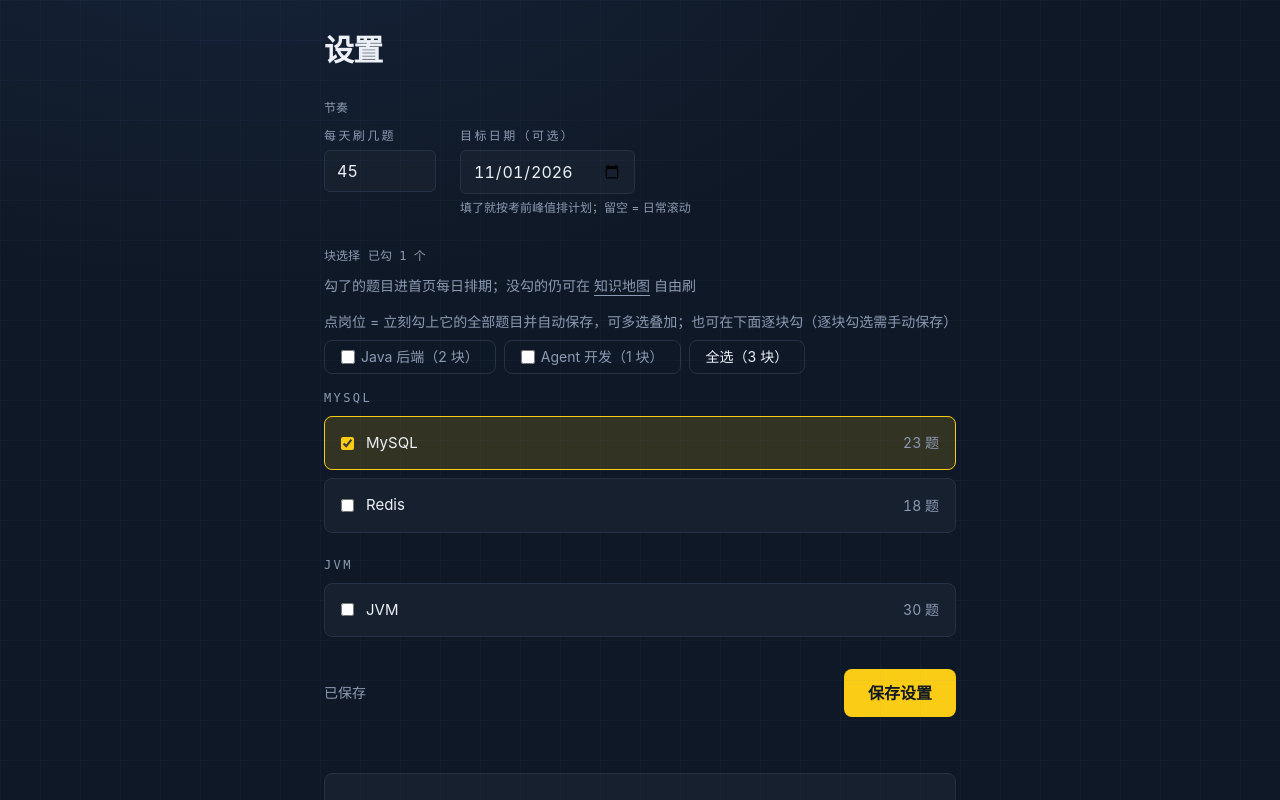
岗位 chip 点掉一个 = 剩余并集；全部点掉 = 没勾任何题目（各步自动保存）
Click the checkbox labelled "Java 后端（2 块）" at (348, 357), box x1=341 y1=350 x2=355 y2=364
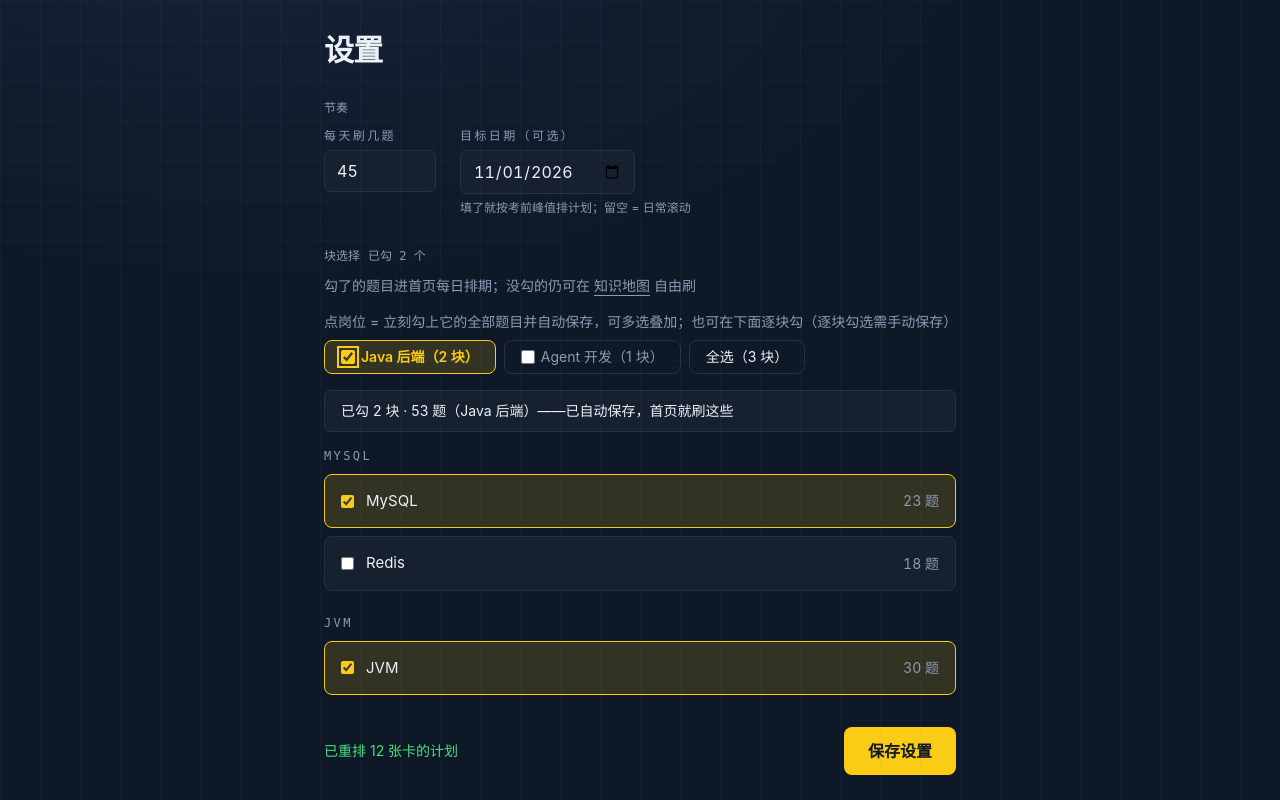
Click the checkbox labelled "Agent 开发（1 块）" at (528, 357), box x1=521 y1=350 x2=535 y2=364
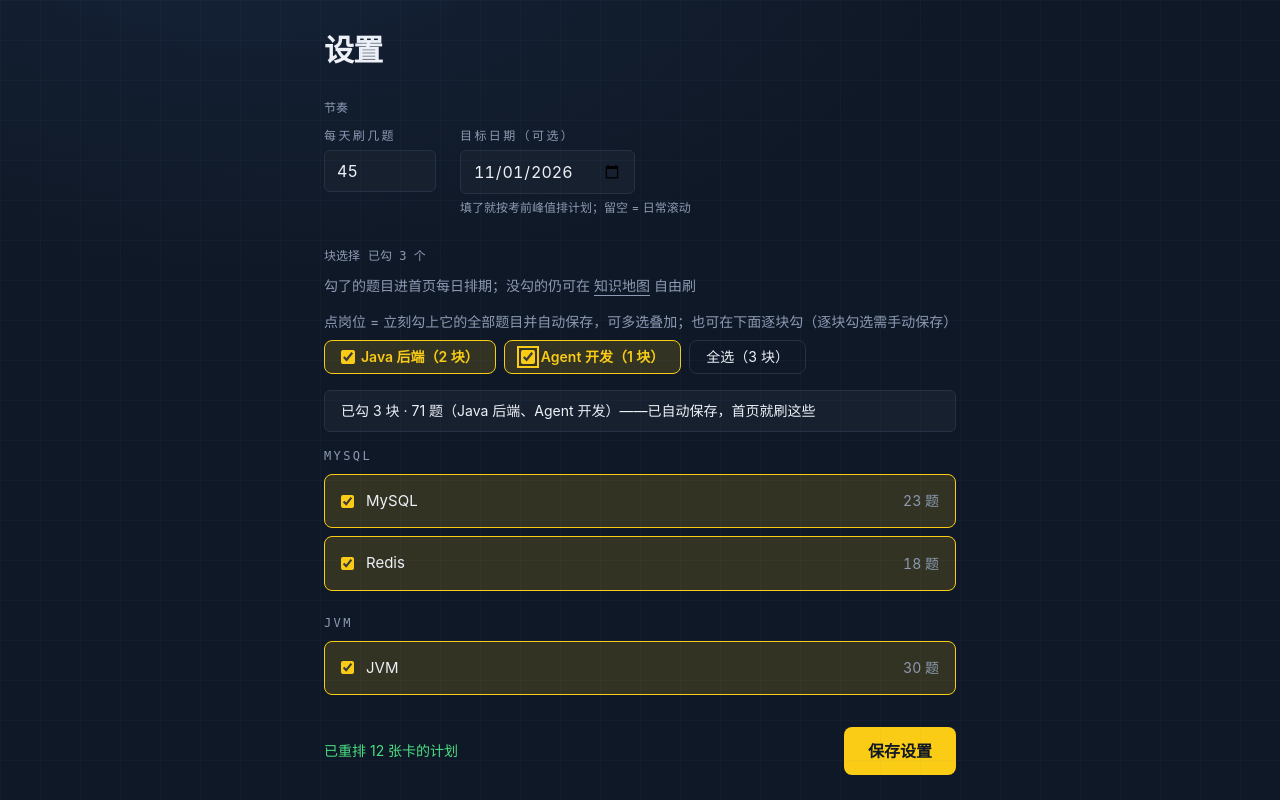
Now the text "已重排 12 张卡的计划" is shown, box x1=324 y1=742 x2=458 y2=759
# 点掉 Java 后端 → 只剩 Agent 开发的 b2
Click the checkbox labelled "Java 后端（2 块）" at (348, 357), box x1=341 y1=350 x2=355 y2=364
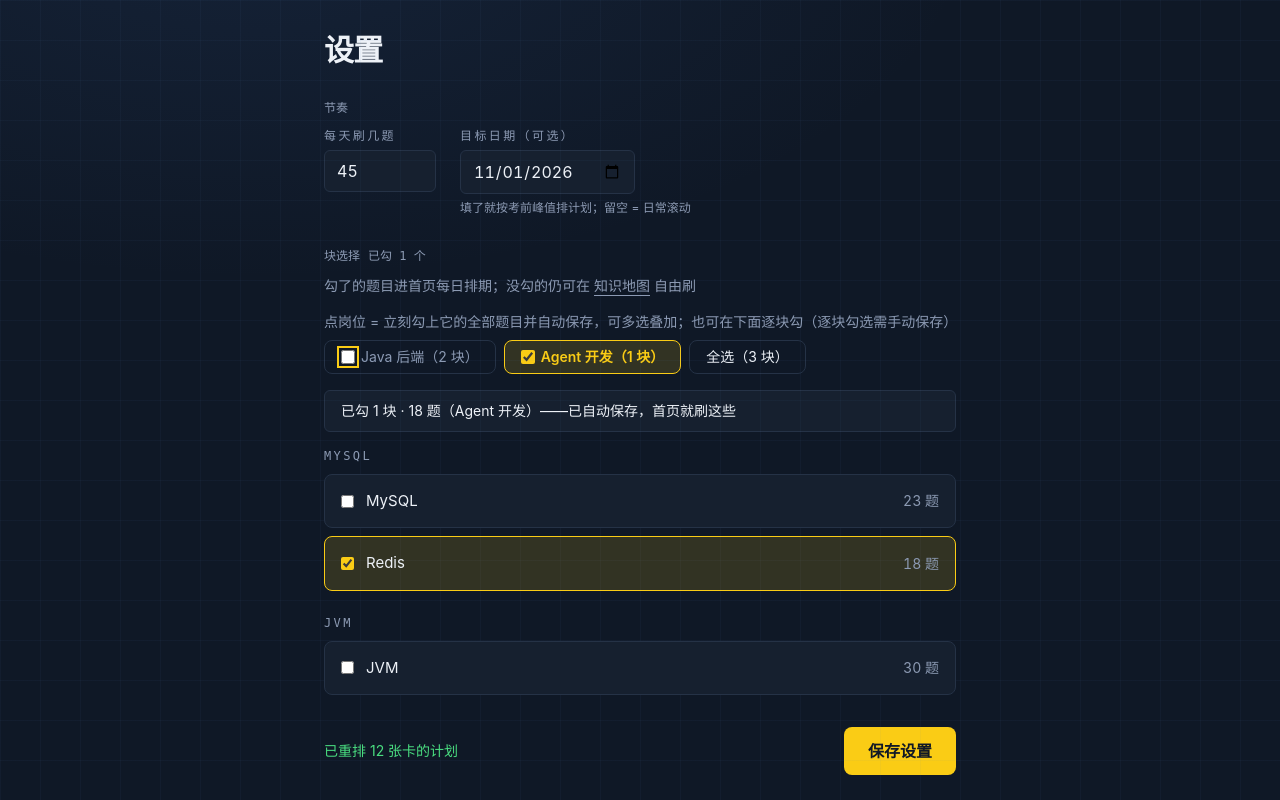
Now the checkbox labelled "Redis 18 题" is checked, box x1=341 y1=557 x2=354 y2=570
Now the text with test id "selected-count" reads "已勾 1 个", box x1=368 y1=249 x2=426 y2=263
Now the checkbox labelled "MySQL 23 题" is not checked, box x1=341 y1=495 x2=354 y2=508
# 全部点掉 → 没勾任何题目（反馈明说后果，自动保存）
Click the checkbox labelled "Agent 开发（1 块）" at (528, 357), box x1=521 y1=350 x2=535 y2=364
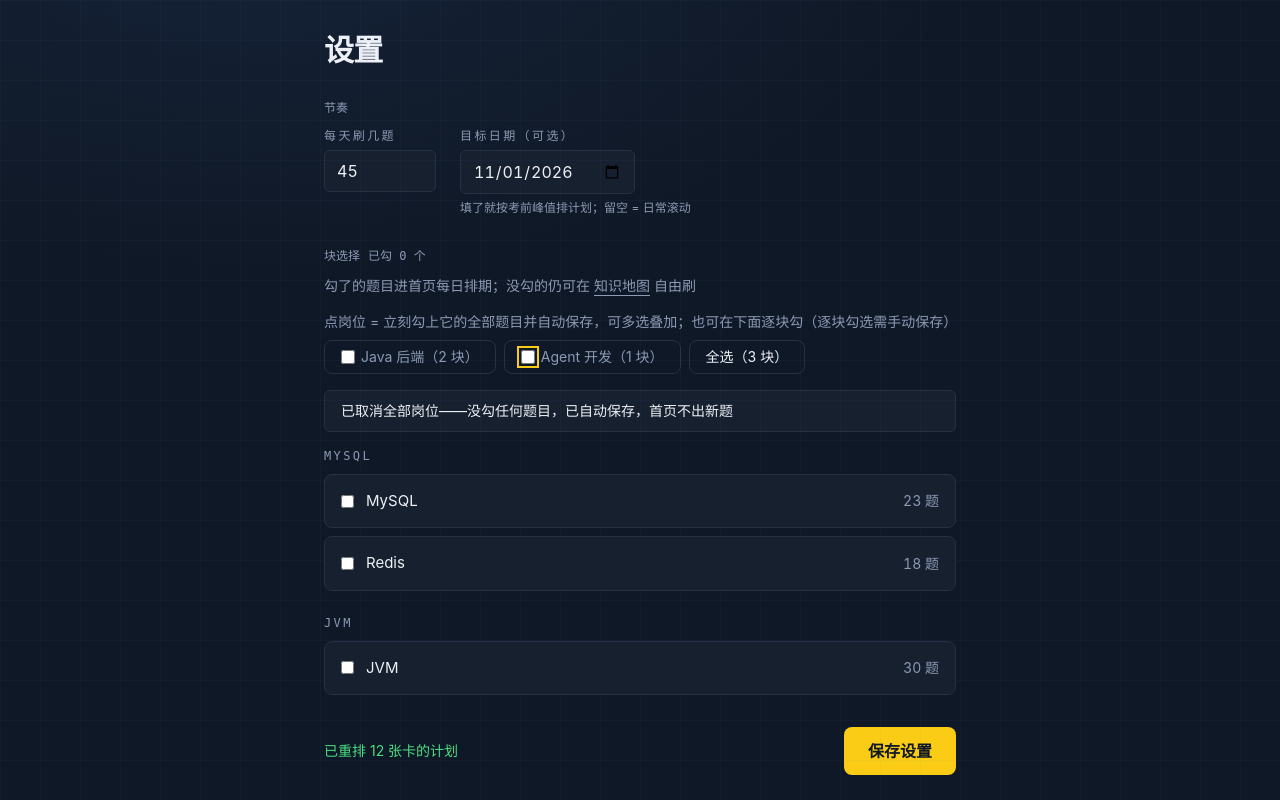
Now the text with test id "selected-count" reads "已勾 0 个", box x1=368 y1=249 x2=426 y2=263
Now the message with test id "bulk-note" reads "已取消全部岗位——没勾任何题目，已自动保存，首页不出新题", box x1=341 y1=402 x2=733 y2=419
